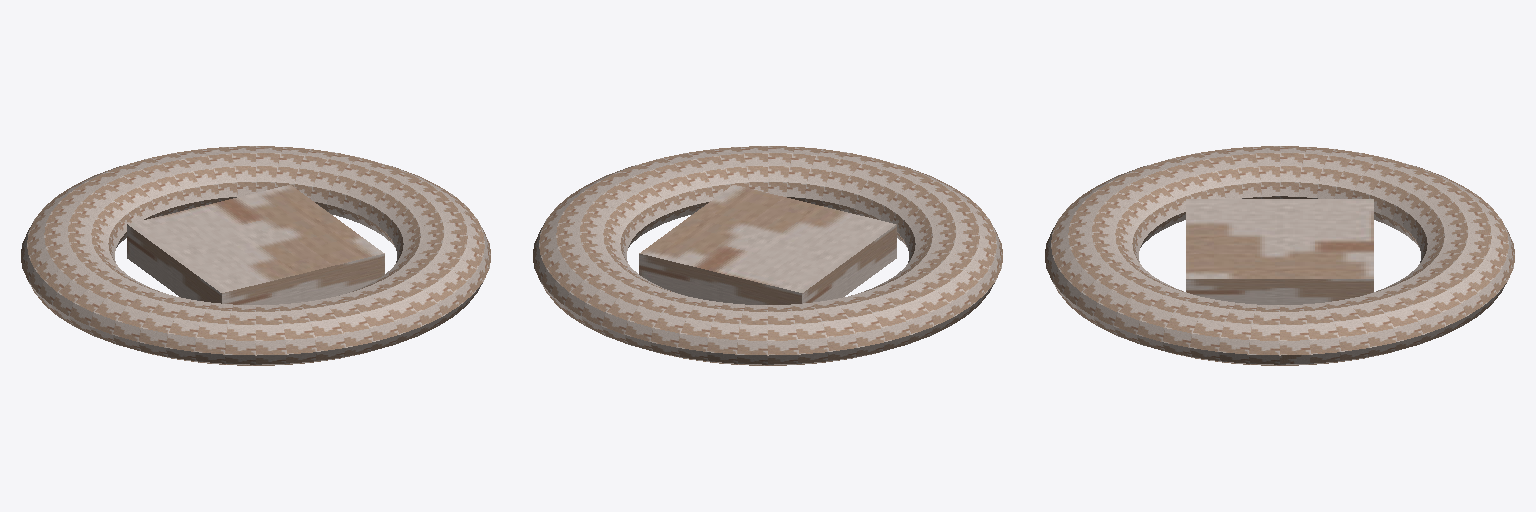
3 renders of one model, left to right at view 1: azimuth 30°, elevation 25°; view 2: azimuth 150°, elevation 25°; view 3: azimuth 270°, elevation 25°, orthographic.
Visible parts, largest first — view 1: Cube_Cube.001; view 2: Cube_Cube.001; view 3: Cube_Cube.001.
Boxes of the visible parts, x1=… form: Cube_Cube.001: x1=21, y1=146, x2=490, y2=365; Cube_Cube.001: x1=533, y1=146, x2=1002, y2=365; Cube_Cube.001: x1=1045, y1=146, x2=1514, y2=365.
Bounding box in the file's own units: 2.5 × 0.2766 × 2.5.
Materials: 1 (1 with a texture image).